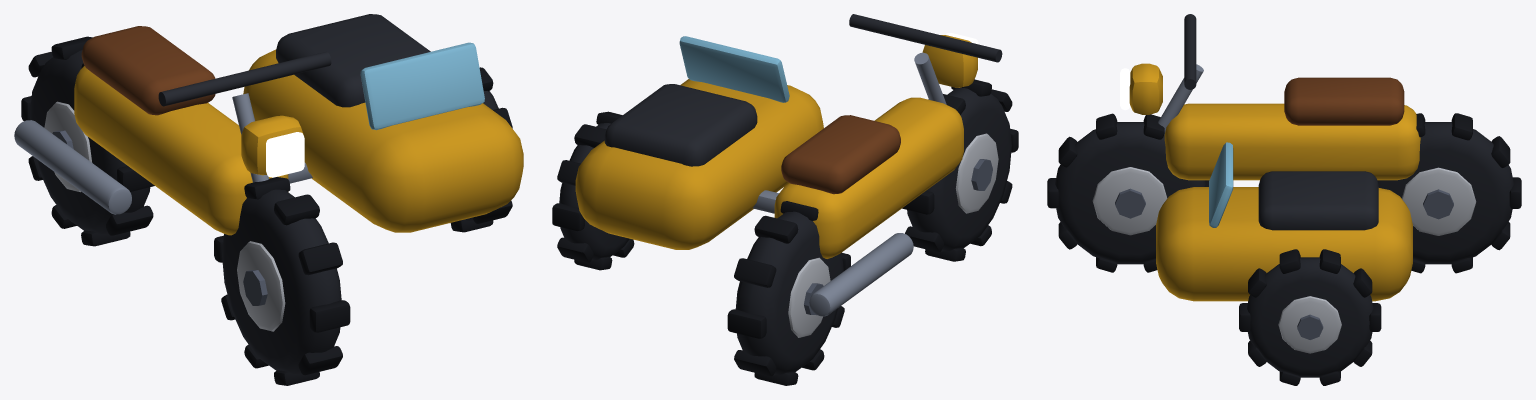
File: v_bike.glb
The picture shows the model from 3 angles, left to right: view 1: azimuth 30°, elevation 25°; view 2: azimuth 150°, elevation 25°; view 3: azimuth 270°, elevation 25°; orthographic projection. The views are drawn at different scales.
Visible parts, largest first — view 1: body, wheel_fl, wheel_bl, lamp_glow, wheel_br; view 2: body, wheel_bl, wheel_fl, wheel_br; view 3: body, wheel_fl, wheel_br, wheel_bl, lamp_glow.
Boxes of the visible parts, <box> form: body: <box>14,14,523,235</box>; wheel_fl: <box>214,177,350,385</box>; wheel_bl: <box>21,36,154,246</box>; lamp_glow: <box>266,132,304,177</box>; wheel_br: <box>450,67,512,232</box>; body: <box>575,14,1002,316</box>; wheel_bl: <box>727,201,850,385</box>; wheel_fl: <box>902,79,1018,261</box>; wheel_br: <box>552,111,634,270</box>; body: <box>1129,14,1420,301</box>; wheel_fl: <box>1047,113,1209,272</box>; wheel_br: <box>1239,249,1381,385</box>; wheel_bl: <box>1377,113,1521,273</box>; lamp_glow: <box>1120,68,1130,110</box>.
Size of the model in its own units: 2.17 by 1.42 by 2.77.
